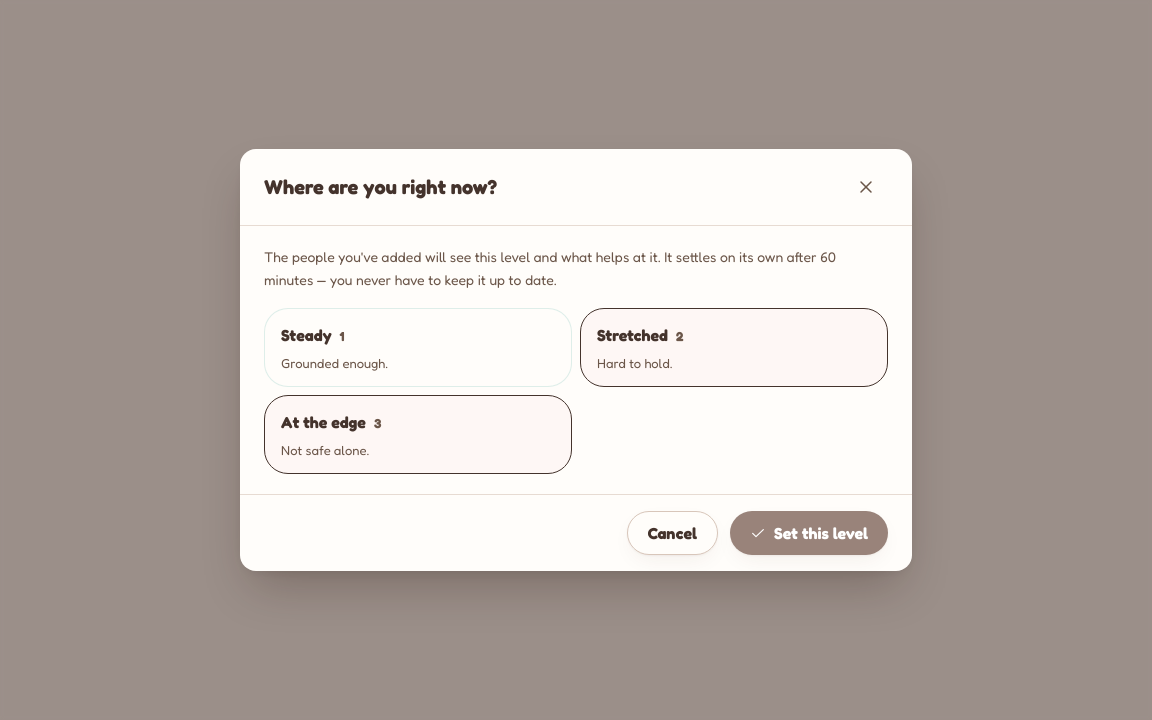
Test: SetLevelSheet › previews what helps at the chosen level
Click the button "Stretched 2 Hard to hold.".
click(632, 335)  # box [580,308,888,387]
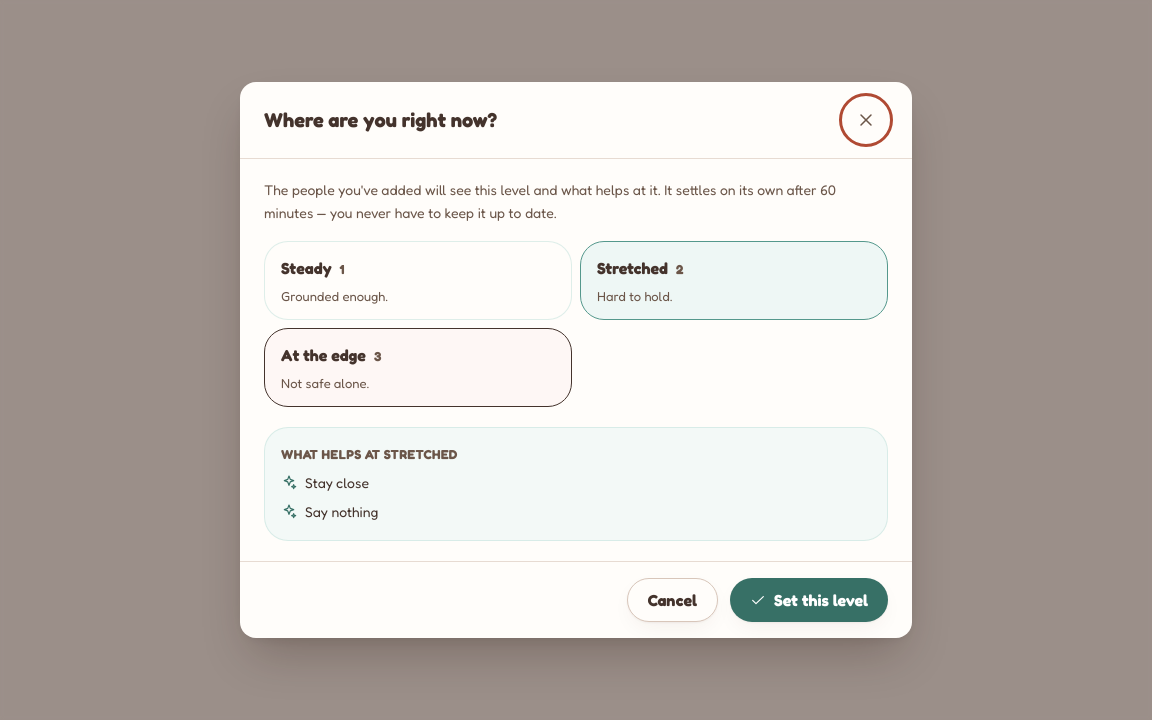
Expected: the text "What helps at Stretched" is shown, [281,446,458,462]
Expected: the text "Stay close" is shown, [305,472,369,495]
Expected: the text "Say nothing" is shown, [305,501,378,524]
